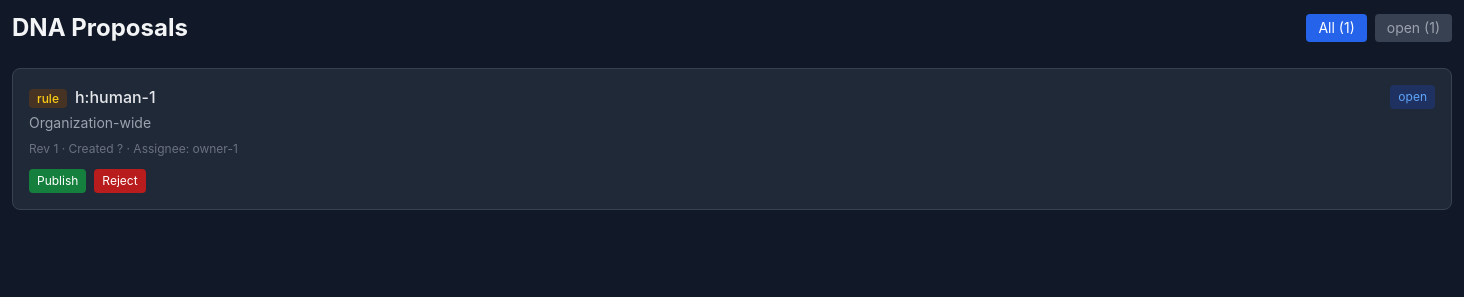
Test: DNAProposals page › surfaces a failed review action
The image size is (1464, 297).
What coordinates should you click on to do the following:
click the button with aria-label "publish proposal p1"
I would click on:
 (58, 181)
Its box is [29,169,86,193].
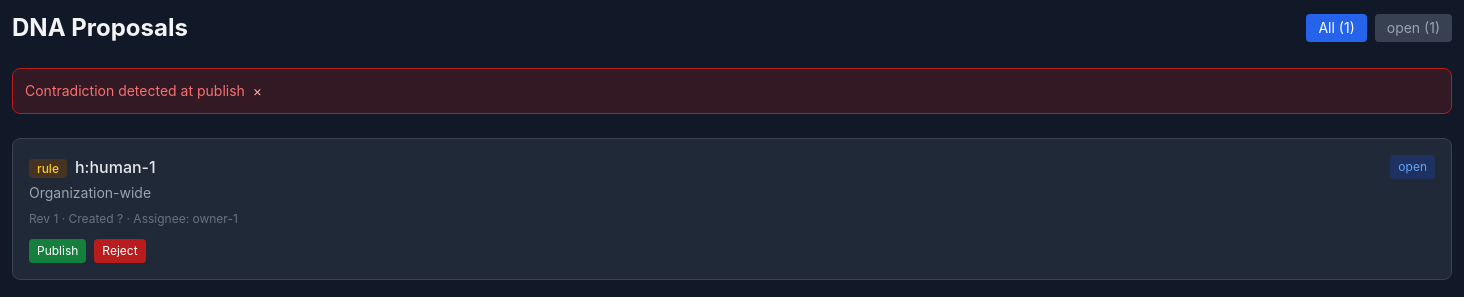
Expected: the text "Contradiction detected at publish ×" is shown, [12,68,1452,114]
